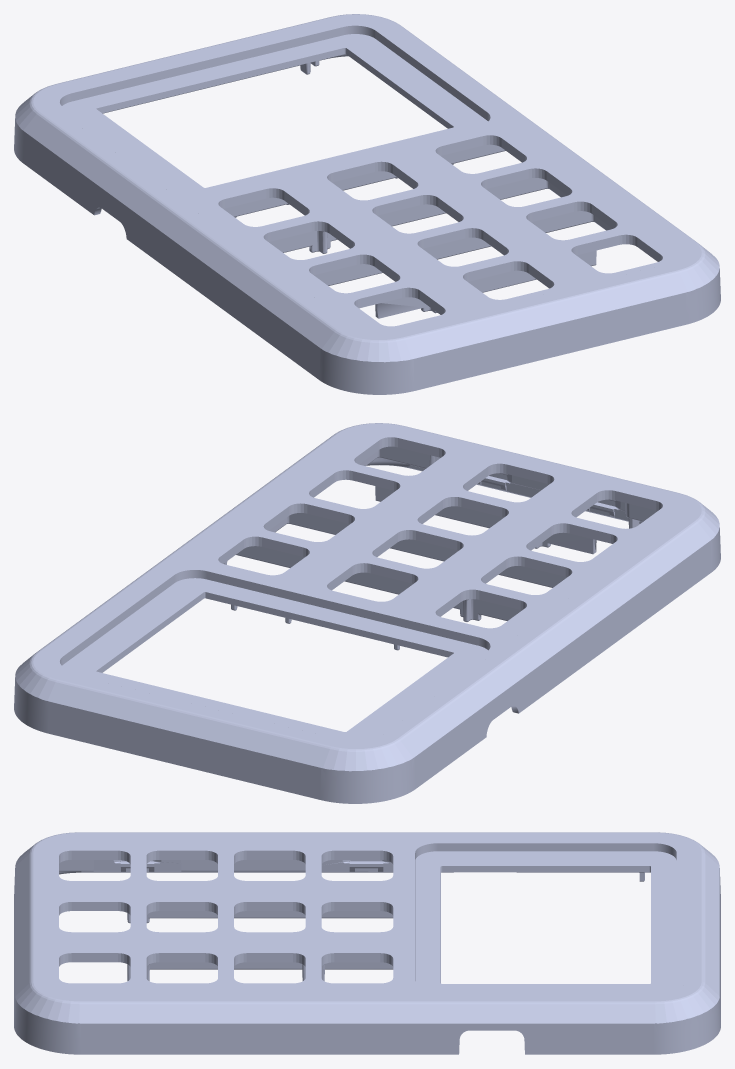
Rendered from 2282-001-TOP-V06-20250407-KNTR.glb.
The picture shows the model from 3 angles, top to bottom: view 1: azimuth 30°, elevation 25°; view 2: azimuth 150°, elevation 25°; view 3: azimuth 270°, elevation 25°; orthographic projection. The views are drawn at different scales.
Visible parts, largest first — view 1: top; view 2: top; view 3: top.
Part boxes in pixels (x1,y1,x2,y2): top: [14, 14, 720, 394]; top: [14, 423, 720, 803]; top: [14, 832, 720, 1054].
Size of the model in its own units: 0.065 by 0.0074 by 0.105.
